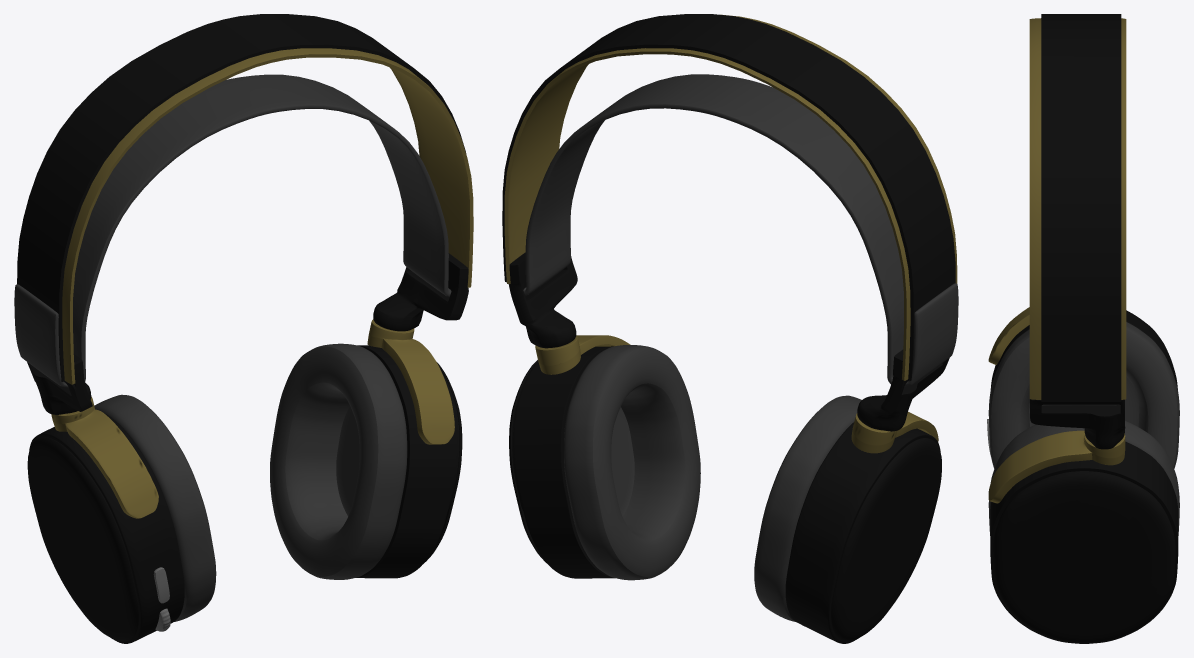
Rendered from Artics.glb.
3 views of the same model, side by side, from view 1: azimuth 30°, elevation 25°; view 2: azimuth 150°, elevation 25°; view 3: azimuth 270°, elevation 25° (orthographic). The views are drawn at different scales.
Parts seen in each view (by area): view 1: Pad_Right, Diadema_Top_1, Diadema_Inner, Supports, Diadema_Top_2, Cover_Left, Pad_Left, Horn_Right, Horns, Sticker, Cover_Rght; view 2: Pad_Right, Diadema_Top_1, Diadema_Inner, Cover_Left, Diadema_Top_2, Horns, Horn_Right, Supports, Pad_Left, Sticker, Cover_Rght; view 3: Diadema_Top_1, Cover_Rght, Pad_Left, Supports, Diadema_Top_2, Horn_Right, Pad_Right, Horns, Cover_Rght_tap.
Part boxes in pixels (x1,y1,x2,y2): Pad_Right: (270, 343, 407, 579); Diadema_Top_1: (17, 14, 466, 381); Diadema_Inner: (73, 74, 451, 381); Supports: (27, 253, 468, 518); Diadema_Top_2: (62, 48, 473, 384); Cover_Left: (27, 437, 139, 641); Pad_Left: (94, 394, 216, 621); Horn_Right: (356, 345, 457, 578); Horns: (29, 412, 184, 643); Sticker: (14, 284, 68, 387); Cover_Rght: (423, 362, 462, 563); Pad_Right: (564, 345, 700, 580); Diadema_Top_1: (502, 14, 955, 380); Diadema_Inner: (523, 74, 903, 384); Cover_Left: (831, 438, 941, 641); Diadema_Top_2: (504, 14, 957, 380); Horns: (785, 422, 940, 643); Horn_Right: (513, 346, 615, 578); Supports: (508, 252, 949, 453); Pad_Left: (754, 395, 861, 621); Sticker: (904, 283, 958, 386); Cover_Rght: (509, 360, 548, 564); Diadema_Top_1: (1041, 14, 1121, 401); Cover_Rght: (993, 473, 1175, 643); Pad_Left: (988, 322, 1179, 468); Supports: (988, 307, 1125, 503); Diadema_Top_2: (1029, 18, 1126, 399); Horn_Right: (990, 441, 1178, 643); Pad_Right: (988, 420, 1179, 535); Horns: (990, 310, 1177, 389); Cover_Rght_tap: (999, 471, 1169, 521).
Bounding box in the file's own units: 4.61 × 6.02 × 1.94.
